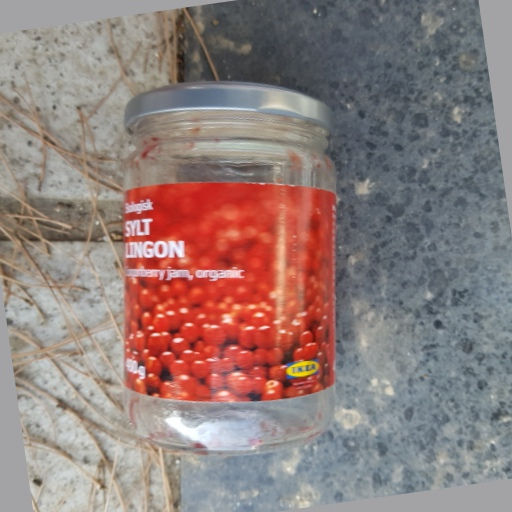Glass_5: (116, 76, 343, 458)
